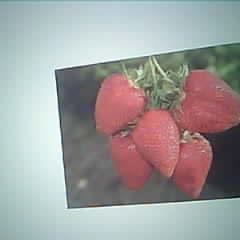straw-ripe: (178, 69, 240, 134), (134, 111, 181, 176), (95, 74, 144, 135), (174, 134, 213, 198)
